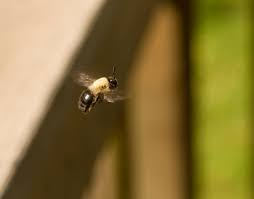insect: (73, 65, 128, 114)
